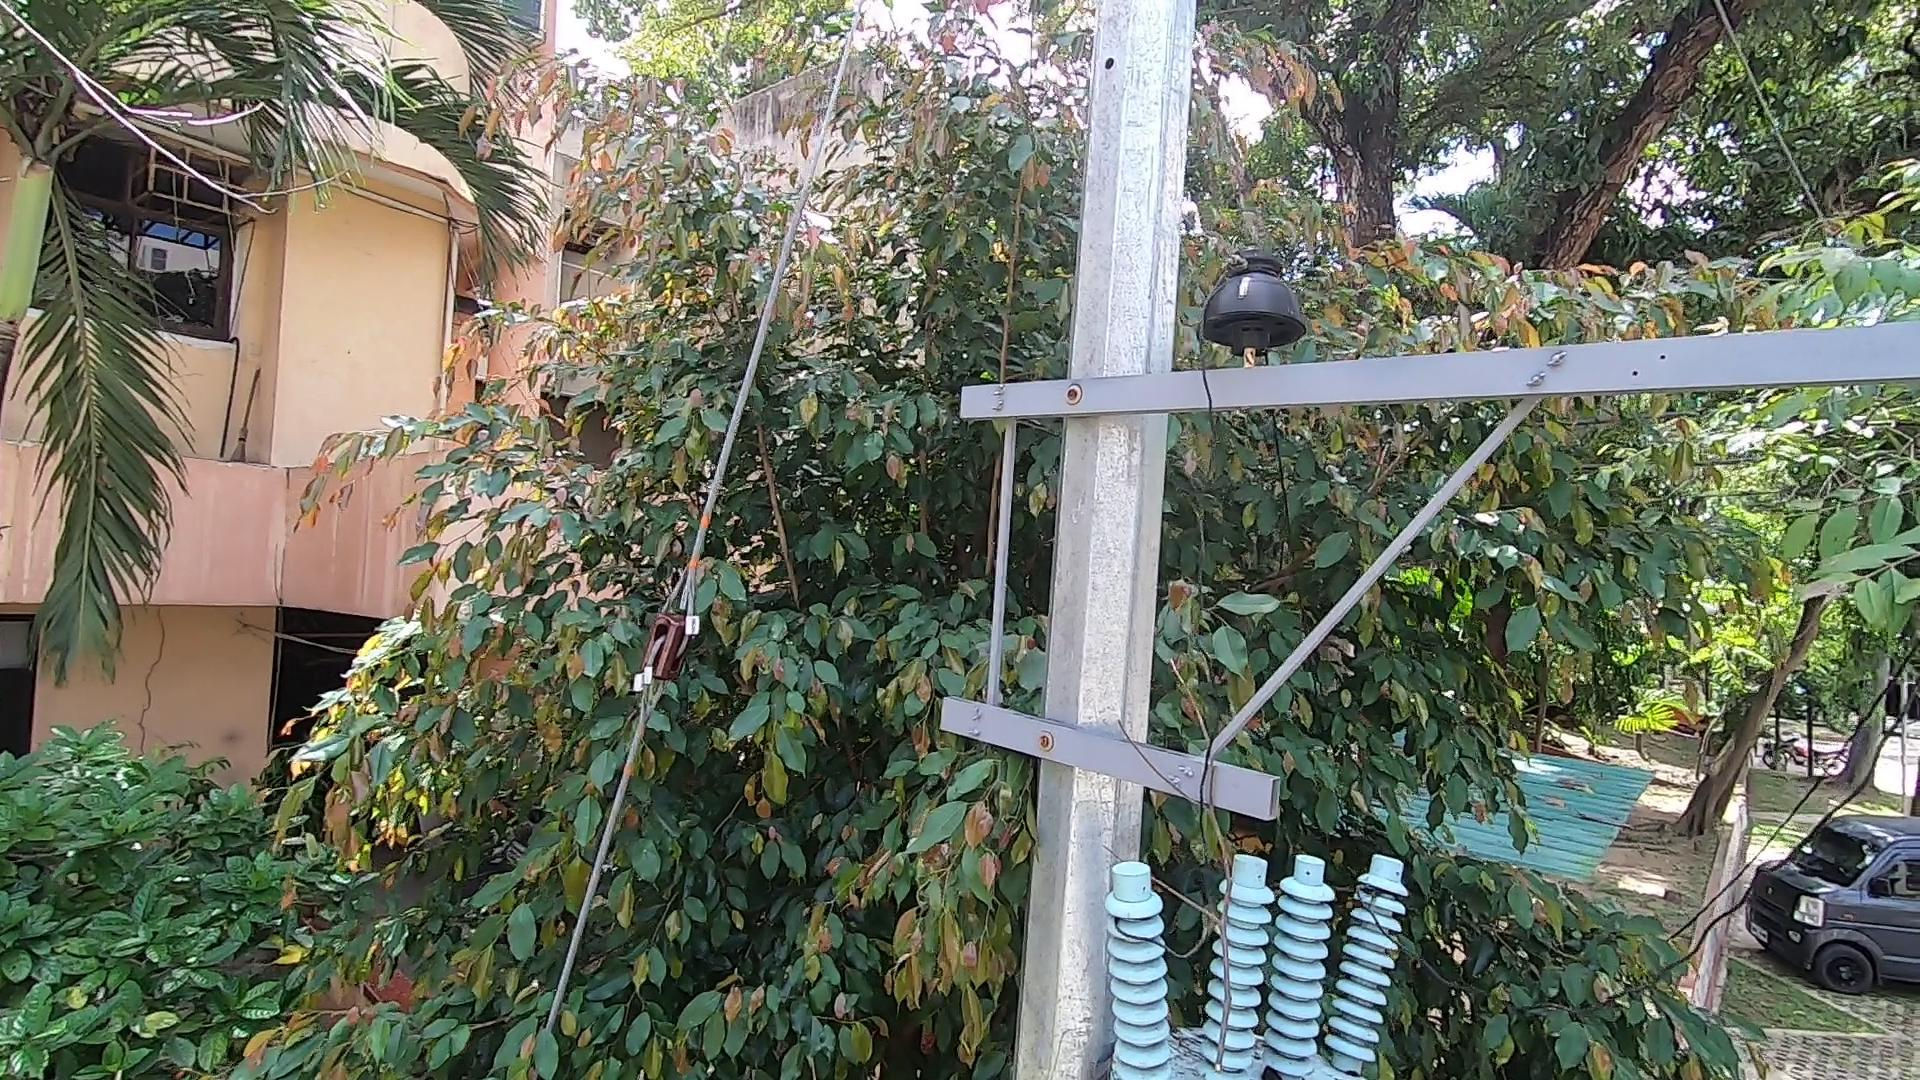tree branch: (1126, 587, 1265, 1077)
